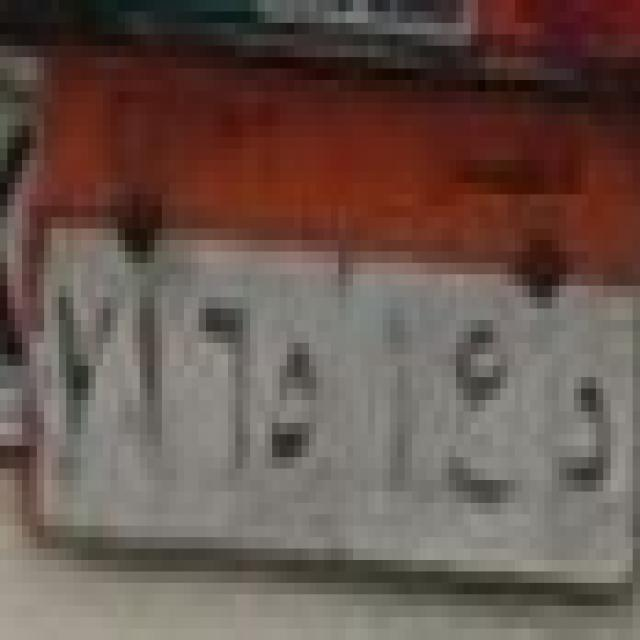1: (123, 272, 178, 477)
5: (264, 310, 328, 480)
6: (194, 286, 253, 478)
7: (42, 276, 120, 492)
Een: (434, 306, 526, 522)
alef: (363, 296, 425, 510)
daal: (557, 354, 615, 508)
